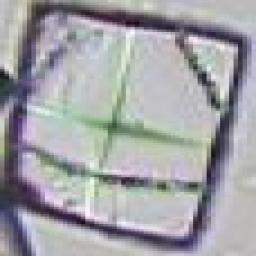crystals: (4, 2, 243, 248)
